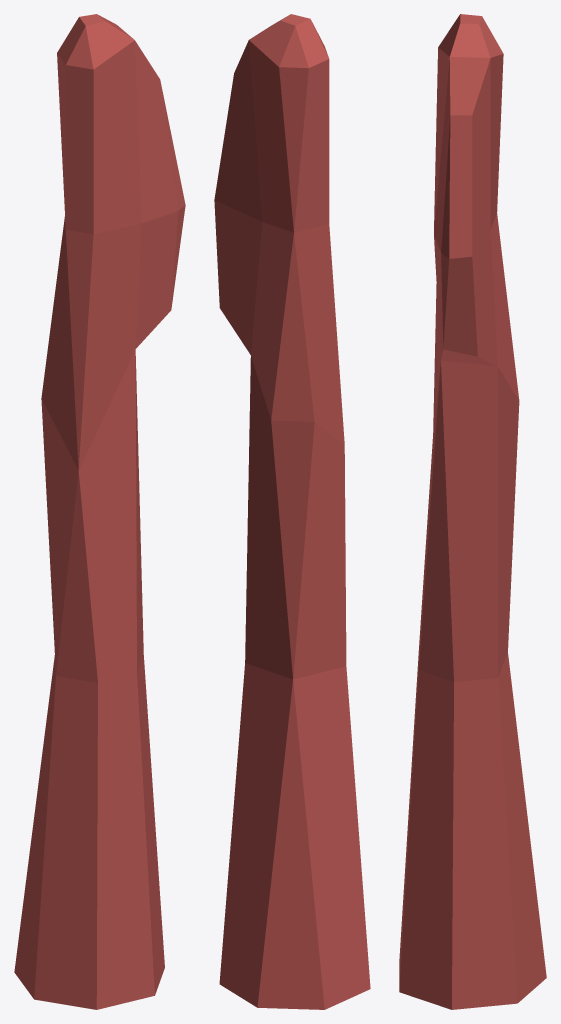
File: LPSciFiCharacter_AlienPlantN1.fbx
The picture shows the model from 3 angles, left to right: view 1: azimuth 30°, elevation 25°; view 2: azimuth 150°, elevation 25°; view 3: azimuth 270°, elevation 25°; orthographic projection.
Visible parts, largest first — view 1: AlienPlantN1; view 2: AlienPlantN1; view 3: AlienPlantN1.
Boxes of the visible parts, x1,y1,x2,y2 form: AlienPlantN1: (14,14,185,1009); AlienPlantN1: (214,14,370,1009); AlienPlantN1: (399,14,546,1009).
Size of the model in its own units: 36.41 by 222 by 30.94.
